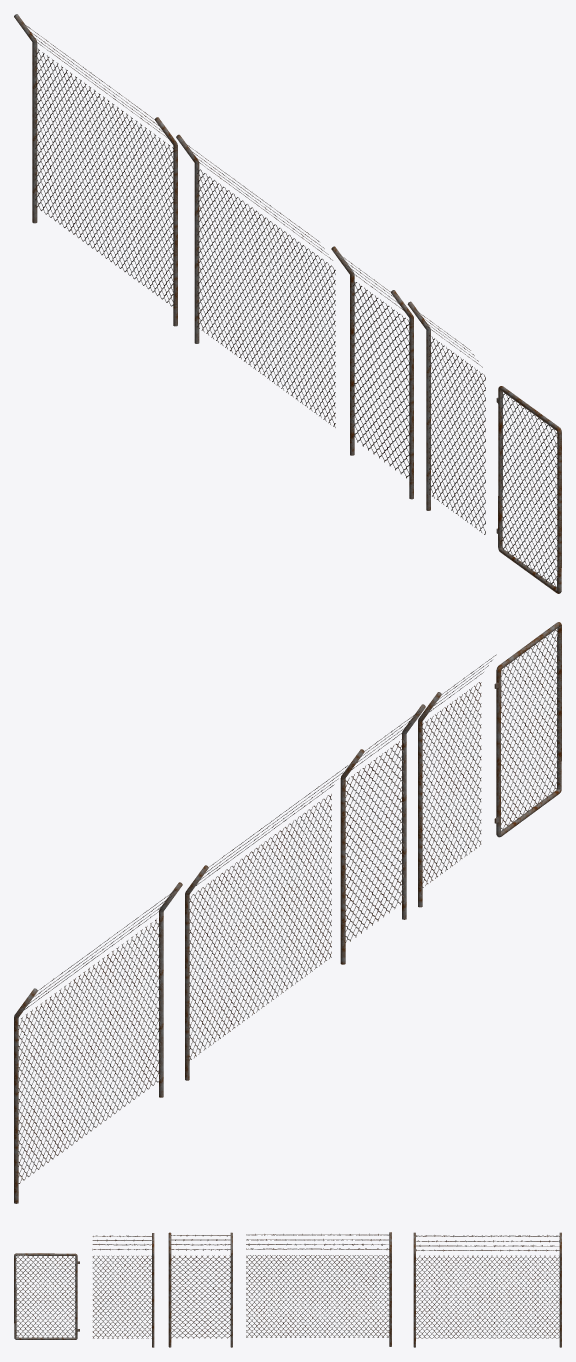
Rendered from chainfence.glb.
3 views of the same model, one above another, from view 1: azimuth 30°, elevation 25°; view 2: azimuth 150°, elevation 25°; view 3: azimuth 270°, elevation 25° (orthographic). The views are drawn at different scales.
Parts seen in each view (by area): view 1: Object_4; view 2: Object_4; view 3: Object_4.
Boxes of the visible parts, <box> form: Object_4: <box>14,14,561,593</box>; Object_4: <box>14,622,561,1203</box>; Object_4: <box>14,1232,561,1347</box>.
Bounding box in the file's own units: 0.2727 × 2.2 × 9.93.
1 material, 1 textured.
